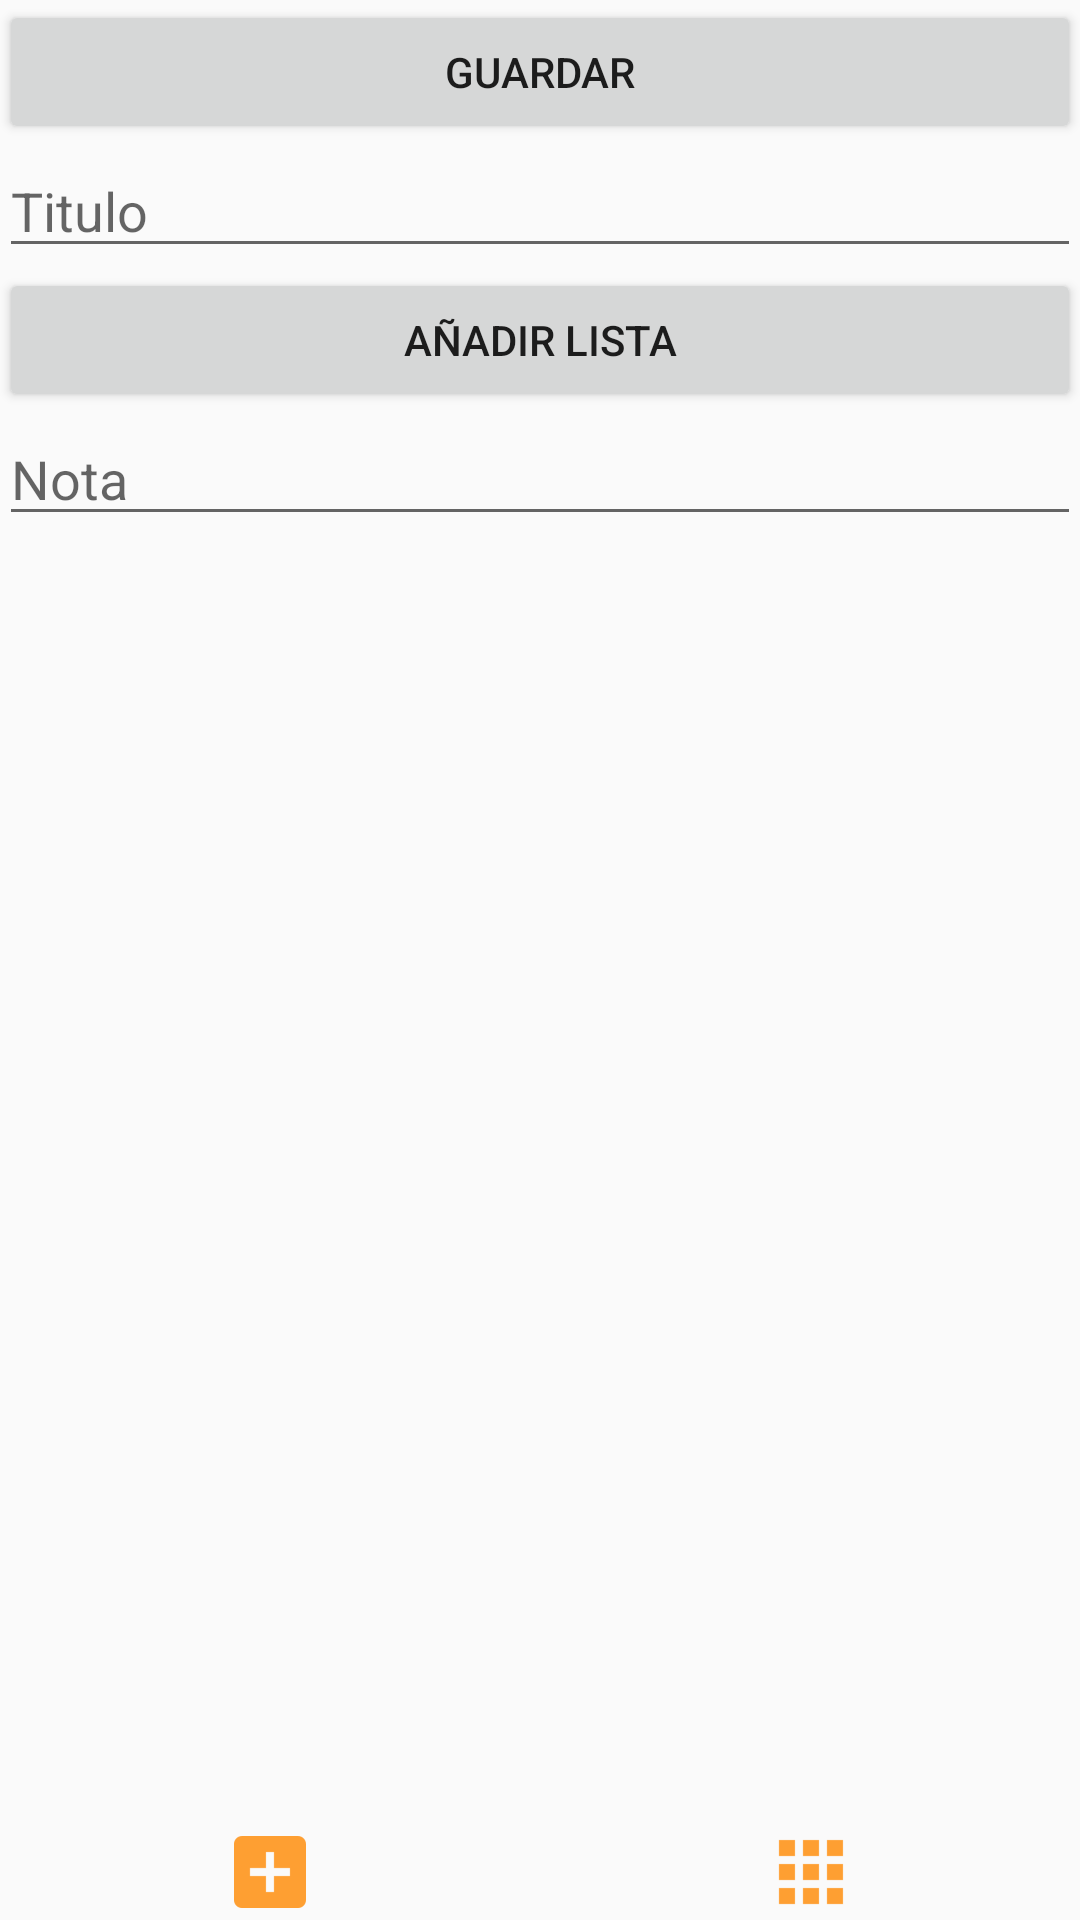

Screen size 1080×1920. Icon name, then its box in pixels as (x1, y1, x2, y2):
plus: (234, 1836, 306, 1908)
